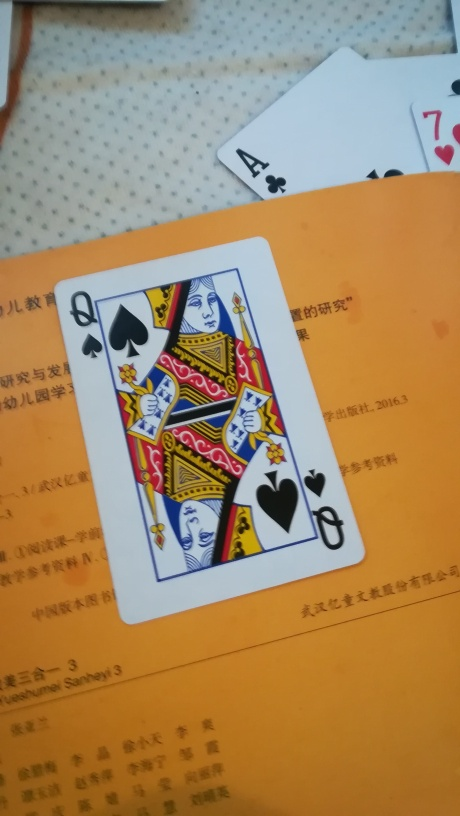ht q: (53, 235, 369, 631)
